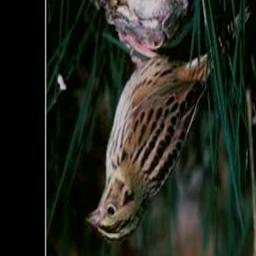Sparrow: (85, 0, 256, 245)
